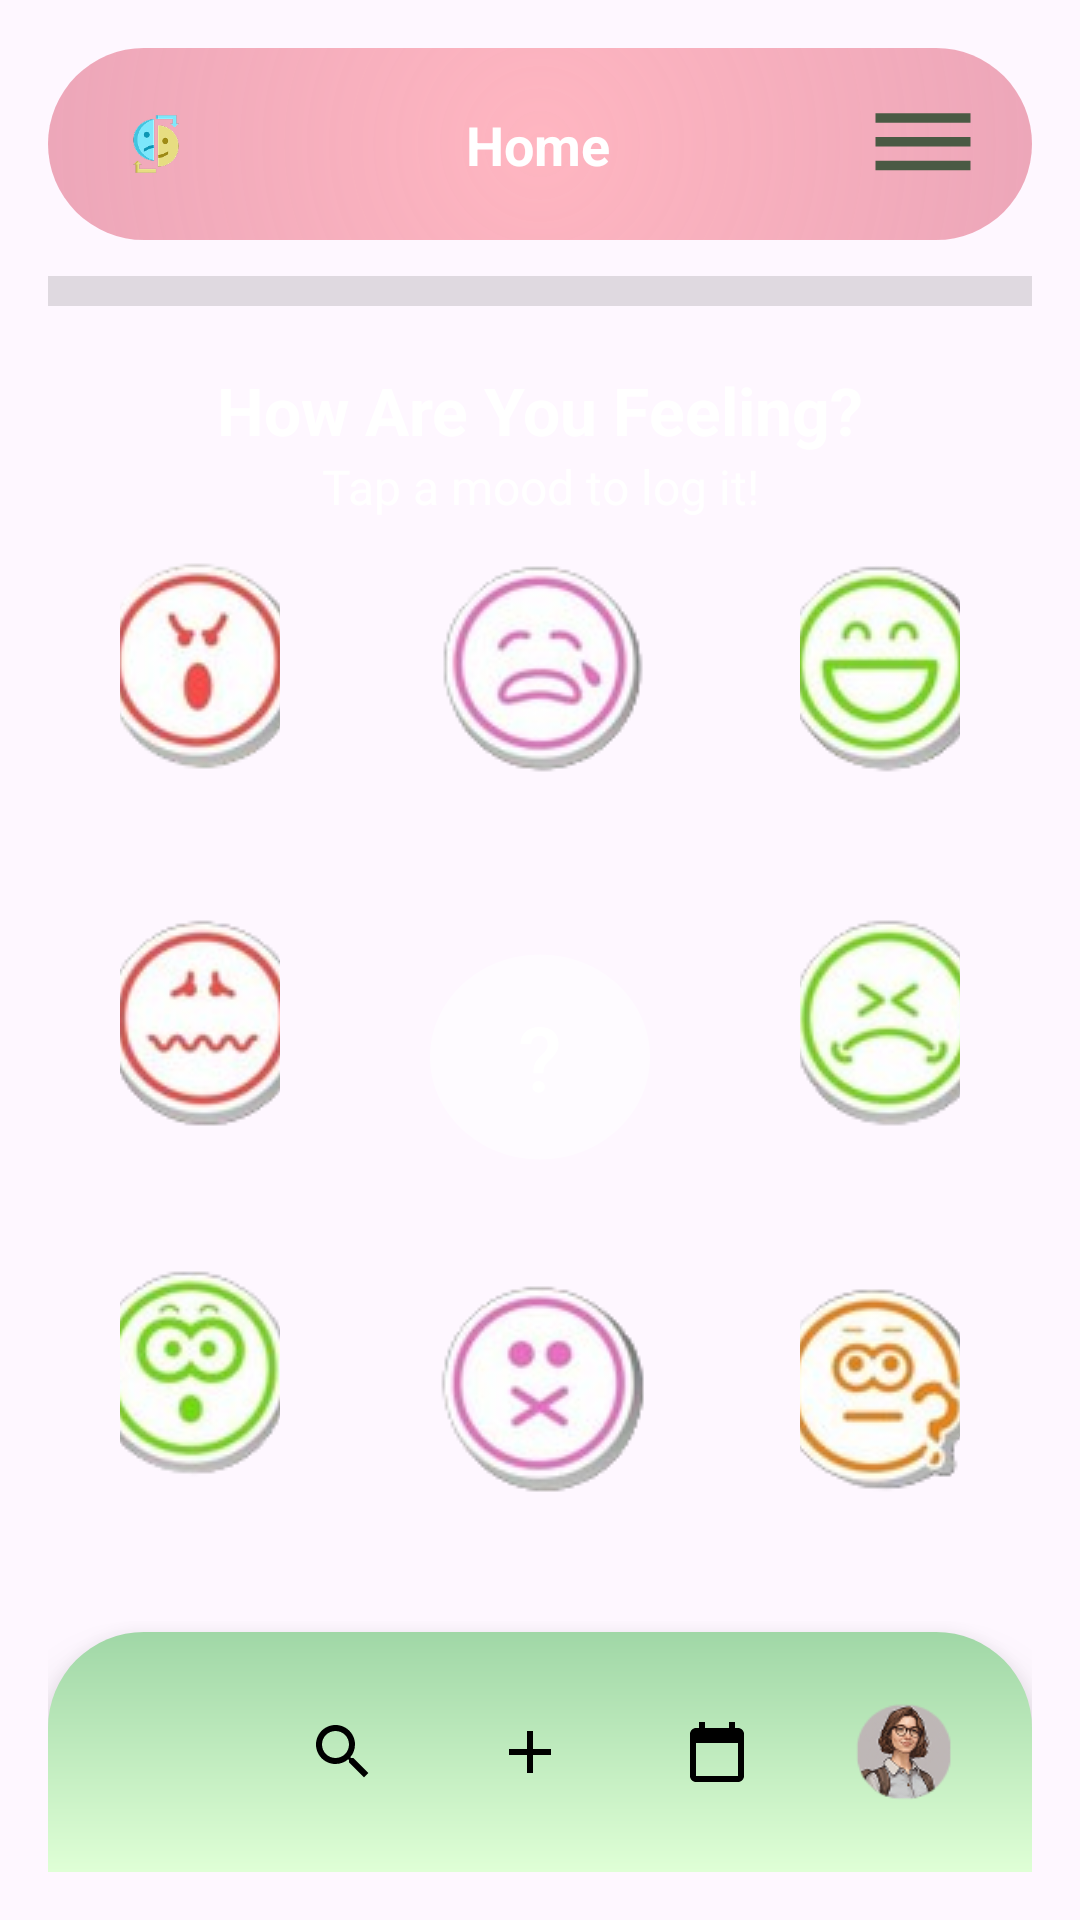

Icon bounding boxes for this 1080px x 1920px phone screenshot, format (x1, y1, x2, y2):
menu: (875, 113, 971, 171)
